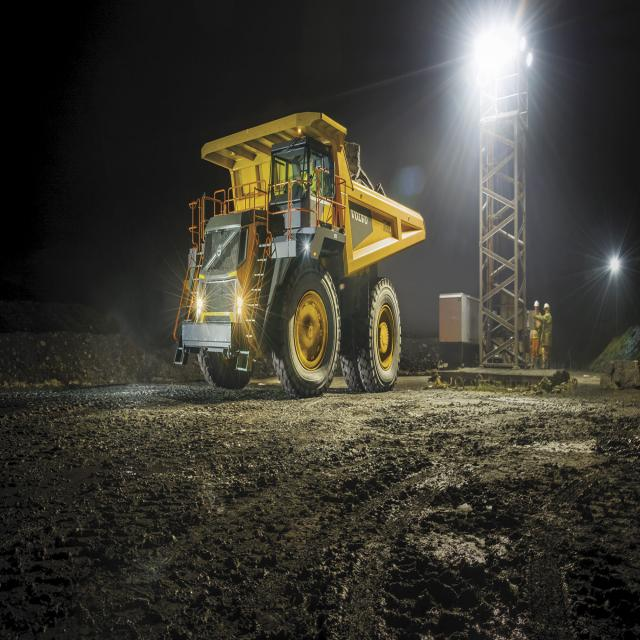dump_truck: (174, 106, 431, 403)
